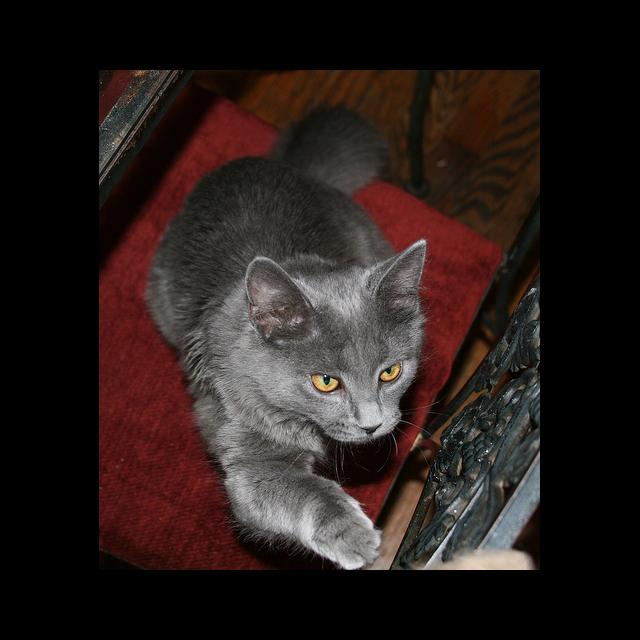animals: (258, 241, 426, 432)
